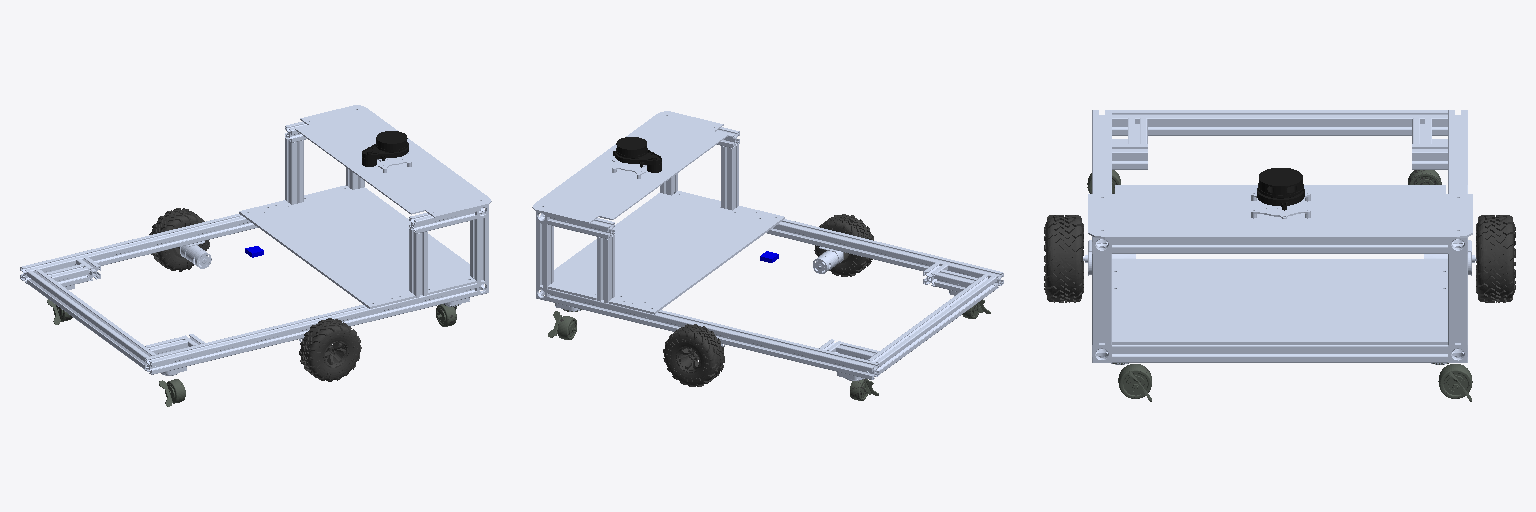
The robot description file, URDF, robot "Robot_Final":
<?xml version="1.0" encoding="utf-8"?>
<robot name="Robot_Final">

  <link name="CHASSIS">
    <inertial>
      <origin xyz="0.148972616629833 8.59131719513906E-05 0.037381334125696" rpy="0 0 0" />
      <mass value="5.23357376650206" />
      <inertia ixx="0.0475570522036204" ixy="1.29200142326392E-08" ixz="-4.95874451589697E-08"
               iyy="0.0782814898121404" iyz="-3.14872308343999E-10" izz="0.123239623540182" />
    </inertial>
    <visual>
      <origin xyz="0 0 0" rpy="0 0 0" />
      <geometry><mesh filename="package://real_description/meshes/CHASSIS.STL" /></geometry>
      <material name=""><color rgba="0.866666666666667 0.909803921568627 1 1" /></material>
    </visual>
    <collision>
      <origin xyz="0 0 0" rpy="0 0 0" />
      <geometry><mesh filename="package://real_description/meshes/CHASSIS.STL" /></geometry>
    </collision>
  </link>
  
 <!--FRONT LEFT CASTER-->
  <link name="FL_swivel">
    <inertial>
      <origin xyz="-0.0225271927865878 8.25455349966892E-06 -0.0150973351650807" rpy="0 0 0" />
      <mass value="0.080127289502846" />
      <inertia ixx="2.04328866782325E-05" ixy="1.02624903669851E-07" ixz="-1.06256948830954E-06"
               iyy="2.23548810848655E-05" iyz="2.04834207339686E-07" izz="1.69630328051252E-05" />
    </inertial>
    <visual>
      <origin xyz="0 0 0" rpy="0 0 0" />
      <geometry><mesh filename="package://real_description/meshes/FL_swivel.STL" /></geometry>
      <material name=""><color rgba="0.388235294117647 0.419607843137255 0.388235294117647 1" /></material>
    </visual>
    <collision>
      <origin xyz="0 0 0" rpy="0 0 0" />
      <geometry><mesh filename="package://real_description/meshes/FL_swivel.STL" /></geometry>
    </collision>
  </link>
  <joint name="fl_swivel" type="continuous">
    <origin xyz="0.34749994000006 0.238309957246437 -0.0550828883294601" rpy="1.5707963267949 -1.5707963267949 0" />
    <parent link="CHASSIS" />
    <child link="FL_swivel" />
    <axis xyz="-1 0 0" />
  </joint>

  <link name="FL_roll">
    <inertial>
      <origin xyz="0 1.38777878078145E-17 0" rpy="0 0 0" />
      <mass value="0.0472944068607781" />
      <inertia ixx="1.41883783502069E-05" ixy="4.44149907162492E-23" ixz="-6.88214269644119E-22"
               iyy="9.50735464480305E-06" iyz="1.86774448194512E-21" izz="9.50735464480305E-06" />
    </inertial>
    <visual>
      <origin xyz="0 0 0" rpy="0 0 0" />
      <geometry><mesh filename="package://real_description/meshes/FL_roll.STL" /></geometry>
      <material name=""><color rgba="0.294117647058824 0.294117647058824 0.294117647058824 1" /></material>
    </visual>
    <collision>
      <origin xyz="0 0 0" rpy="0 0 0" />
      <geometry><mesh filename="package://real_description/meshes/FL_roll.STL" /></geometry>
    </collision>
  </link>
  <joint name="fl_roll" type="continuous">
    <origin xyz="-0.0369999999999996 0.000959824507810431 -0.0229799638144681" rpy="0 0.0417436225359922 -1.57079632679489" />
    <parent link="FL_swivel" />
    <child link="FL_roll" />
    <axis xyz="1 0 0" />
  </joint>

<!--FRONT RIGHT CASTER-->
  <link name="FR_swivel">
    <inertial>
      <origin xyz="-0.0355271927865884 8.25455350048077E-06 -0.0150973351650687" rpy="0 0 0" />
      <mass value="0.0801272895028461" />
      <inertia ixx="2.04328866782326E-05" ixy="1.02624903669874E-07" ixz="-1.06256948830954E-06"
               iyy="2.23548810848655E-05" iyz="2.04834207339691E-07" izz="1.69630328051252E-05" />
    </inertial>
    <visual>
      <origin xyz="0 0 0" rpy="0 0 0" />
      <geometry><mesh filename="package://real_description/meshes/FR_swivel.STL" /></geometry>
      <material name=""><color rgba="0.388235294117647 0.419607843137255 0.388235294117647 1" /></material>
    </visual>
    <collision>
      <origin xyz="0 0 0" rpy="0 0 0" />
      <geometry><mesh filename="package://real_description/meshes/FR_swivel.STL" /></geometry>
    </collision>
  </link>
  <joint name="fr_swivel" type="continuous">
    <origin xyz="0.347499940000059 -0.238309957200129 -0.0420828883294584" rpy="1.5707963267949 -1.5707963267949 0" />
    <parent link="CHASSIS" />
    <child link="FR_swivel" />
    <axis xyz="1 0 0" />
  </joint>

  <link name="FR_roll">
    <inertial>
      <origin xyz="-1.38777878078145E-17 0 0" rpy="0 0 0" />
      <mass value="0.0472944068607781" />
      <inertia ixx="1.41883783502069E-05" ixy="-2.74902241208646E-22" ixz="-7.94093388050907E-22"
               iyy="9.50735464480305E-06" iyz="-1.06863102662723E-21" izz="9.50735464480305E-06" />
    </inertial>
    <visual>
      <origin xyz="0 0 0" rpy="0 0 0" />
      <geometry><mesh filename="package://real_description/meshes/FR_roll.STL" /></geometry>
      <material name=""><color rgba="0.294117647058824 0.294117647058824 0.294117647058824 1" /></material>
    </visual>
    <collision>
      <origin xyz="0 0 0" rpy="0 0 0" />
      <geometry><mesh filename="package://real_description/meshes/FR_roll.STL" /></geometry>
    </collision>
  </link>
  <joint name="fr_roll" type="continuous">
    <origin xyz="-0.0500000000000001 0.000959824507811236 -0.0229799638144561" rpy="3.14159265358979 -0.0417436225359922 1.5707963267949" />
    <parent link="FR_swivel" />
    <child link="FR_roll" />
    <axis xyz="1 0 0" />
  </joint>

<!--REAR LEFT CASTER-->
  <link name="RL_swivel">
    <inertial>
      <origin xyz="0.695215418771256 0.00502743200085908 0.0320864502764693" rpy="0 0 0" />
      <mass value="0.0606861535098016" />
      <inertia ixx="1.84920412193494E-05" ixy="-5.81928842027952E-08" ixz="-1.30866531976875E-08"
               iyy="1.41593687366366E-05" iyz="-1.06592653432018E-06" izz="1.38921500597451E-05" />
    </inertial>
    <visual>
      <origin xyz="0 0 0" rpy="0 0 0" />
      <geometry><mesh filename="package://real_description/meshes/RL_swivel.STL" /></geometry>
      <material name=""><color rgba="0.388235294117647 0.419607843137255 0.388235294117647 1" /></material>
    </visual>
    <collision>
      <origin xyz="0 0 0" rpy="0 0 0" />
      <geometry><mesh filename="package://real_description/meshes/RL_swivel.STL" /></geometry>
    </collision>
  </link>
  <joint name="rl_swivel" type="continuous">
    <origin xyz="0.348459764507871 0.215329993431968 -0.0920828883294597" rpy="1.5707963267949 0 -3.0998490310538" />
    <parent link="CHASSIS" />
    <child link="RL_swivel" />
    <axis xyz="0 1 0" />
  </joint>

  <link name="RL_roll">
    <inertial>
      <origin xyz="0 1.38777878078145E-17 0" rpy="0 0 0" />
      <mass value="0.0472944068607779" />
      <inertia ixx="1.41883783502068E-05" ixy="3.83019243189107E-22" ixz="-2.11758236813575E-22"
               iyy="9.50735464480297E-06" iyz="-2.03198382074269E-21" izz="9.50735464480297E-06" />
    </inertial>
    <visual>
      <origin xyz="0 0 0" rpy="0 0 0" />
      <geometry><mesh filename="package://real_description/meshes/RL_roll.STL" /></geometry>
      <material name=""><color rgba="0.294117647058824 0.294117647058824 0.294117647058824 1" /></material>
    </visual>
    <collision>
      <origin xyz="0 0 0" rpy="0 0 0" />
      <geometry><mesh filename="package://real_description/meshes/RL_roll.STL" /></geometry>
    </collision>
  </link>
  <joint name="rl_roll" type="continuous">
    <origin xyz="0.694394438846155 0 0.0290033877282606" rpy="3.14159265358979 0 3.14159265358979" />
    <parent link="RL_swivel" />
    <child link="RL_roll" />
    <axis xyz="1 0 0" />
  </joint>

<!--REAR RIGHT CASTER-->
  <link name="RR_swivel">
    <inertial>
      <origin xyz="-0.035527192786591 -8.25455350095261E-06 0.0150973351650685" rpy="0 0 0" />
      <mass value="0.080127289502846" />
      <inertia ixx="2.04328866782326E-05" ixy="-1.02624903669911E-07" ixz="1.06256948830962E-06"
               iyy="2.23548810848656E-05" iyz="2.04834207339678E-07" izz="1.69630328051252E-05" />
    </inertial>
    <visual>
      <origin xyz="0 0 0" rpy="0 0 0" />
      <geometry><mesh filename="package://real_description/meshes/RR_swivel.STL" /></geometry>
      <material name=""><color rgba="0.388235294117647 0.419607843137255 0.388235294117647 1" /></material>
    </visual>
    <collision>
      <origin xyz="0 0 0" rpy="0 0 0" />
      <geometry><mesh filename="package://real_description/meshes/RR_swivel.STL" /></geometry>
    </collision>
  </link>
  <joint name="rr_swivel" type="continuous">
    <origin xyz="-0.347499940000062 -0.238309957200129 -0.0420828883294612" rpy="1.5707963267949 -1.5707963267949 0" />
    <parent link="CHASSIS" />
    <child link="RR_swivel" />
    <axis xyz="1 0 0" />
  </joint>

  <link name="RR_roll">
    <inertial>
      <origin xyz="1.11022302462516E-16 0 -1.11022302462516E-16" rpy="0 0 0" />
      <mass value="0.047294406860778" />
      <inertia ixx="1.41883783502069E-05" ixy="2.51094514413731E-22" ixz="-1.58818677610181E-22"
               iyy="9.50735464480302E-06" iyz="1.99325585425421E-21" izz="9.50735464480302E-06" />
    </inertial>
    <visual>
      <origin xyz="0 0 0" rpy="0 0 0" />
      <geometry><mesh filename="package://real_description/meshes/RR_roll.STL" /></geometry>
      <material name=""><color rgba="0.294117647058824 0.294117647058824 0.294117647058824 1" /></material>
    </visual>
    <collision>
      <origin xyz="0 0 0" rpy="0 0 0" />
      <geometry><mesh filename="package://real_description/meshes/RR_roll.STL" /></geometry>
    </collision>
  </link>
  <joint name="rr_roll" type="continuous">
    <origin xyz="-0.0500000000000028 -0.000959824507811624 0.0229799638144559" rpy="3.14159265358978 -0.0417436225359922 1.57079632679489" />
    <parent link="RR_swivel" />
    <child link="RR_roll" />
    <axis xyz="-1 0 0" />
  </joint>

<!--LEFT DRIVE WHEEL-->
  <link name="LEFT_drive">
    <inertial>
      <origin xyz="-0.000435316178176041 1.43219237733194E-07 7.15469608836283E-07" rpy="0 0 0" />
      <mass value="0.172871365054941" />
      <inertia ixx="0.00041295850631102" ixy="-1.3967686359444E-10" ixz="-6.94216331541942E-10"
               iyy="0.000264146108822355" iyz="9.47688308859436E-10" izz="0.00026415067034445" />
    </inertial>
    <visual>
      <origin xyz="0 0 0" rpy="0 0 0" />
      <geometry><mesh filename="package://real_description/meshes/LEFT_drive.STL" /></geometry>
      <material name=""><color rgba="0.298039215686275 0.298039215686275 0.298039215686275 1" /></material>
    </visual>
    <collision>
      <origin xyz="0 0 0" rpy="0 0 0" />
      <geometry><mesh filename="package://real_description/meshes/LEFT_drive.STL" /></geometry>
    </collision>
  </link>
  <joint name="left_drive" type="continuous">
    <origin xyz="0 0.32099994000006 -0.0519998800001306" rpy="1.5707963267949 0 1.5707963267949" />
    <parent link="CHASSIS" />
    <child link="LEFT_drive" />
    <axis xyz="1 0 0" />
  </joint>

<!--RIGHT DRIVE WHEEL-->
  <link name="RIGHT_drive">
    <inertial>
      <origin xyz="-0.000435317384219203 3.49623845763425E-07 6.40158243581102E-07" rpy="0 0 0" />
      <mass value="0.172871342384214" />
      <inertia ixx="0.00041295850491582" ixy="-3.39976682291384E-10" ixz="-6.2085373672612E-10"
               iyy="0.000264147048135927" iyz="2.0749818440274E-09" izz="0.000264149727744325" />
    </inertial>
    <visual>
      <origin xyz="0 0 0" rpy="0 0 0" />
      <geometry><mesh filename="package://real_description/meshes/RIGHT_drive.STL" /></geometry>
      <material name=""><color rgba="0.298039215686275 0.298039215686275 0.298039215686275 1" /></material>
    </visual>
    <collision>
      <origin xyz="0 0 0" rpy="0 0 0" />
      <geometry><mesh filename="package://real_description/meshes/RIGHT_drive.STL" /></geometry>
    </collision>
  </link>
  <joint name="right_drive" type="continuous">
    <origin xyz="0 -0.320999940000059 -0.0519998800001246" rpy="1.5707963267949 0 -1.5707963267949" />
    <parent link="CHASSIS" />
    <child link="RIGHT_drive" />
    <axis xyz="1 0 0" />
  </joint>

<!--LIDAR-->
  <link name="LIDAR">
    <inertial>
      <origin xyz="0.0124301051678767 -0.00143154992810615 -0.000239815633560569" rpy="0 0 0" />
      <mass value="0.11668205406855" />
      <inertia ixx="4.69528158829323E-05" ixy="1.92108033402297E-05" ixz="-7.4737903940835E-07"
               iyy="0.000112425267410857" iyz="4.15170038674818E-07" izz="0.000100209188218838" />
    </inertial>
    <visual>
      <origin xyz="0 0 0" rpy="0 0 0" />
      <geometry><mesh filename="package://real_description/meshes/LIDAR.STL" /></geometry>
      <material name=""><color rgba="0.149019607843137 0.149019607843137 0.149019607843137 1" /></material>
    </visual>
    <collision>
      <origin xyz="0 0 0" rpy="0 0 0" />
      <geometry><mesh filename="package://real_description/meshes/LIDAR.STL" /></geometry>
    </collision>
  </link>
  <joint name="lidar" type="fixed">
    <origin xyz="0.337928211604104 0.0011642377654919 0.220978892743802" rpy="1.5707963267949 0 3.14159265358979" />
    <parent link="CHASSIS" />
    <child link="LIDAR" />
    <axis xyz="0 0 0" />
  </joint>

<!--IMU-->
  <link name="imu_link">
    <visual>
      <origin xyz="0 0 0" rpy="0 0 0"/>
      <geometry><box size="0.03 0.03 0.01"/></geometry>
      <material name="imu_blue"><color rgba="0.0 0.0 1.0 1"/></material>
    </visual>
    <collision>
      <origin xyz="0 0 0" rpy="0 0 0"/>
      <geometry><box size="0.03 0.03 0.01"/></geometry>
    </collision>
    <inertial>
      <mass value="0.01"/>
      <origin xyz="0 0 0" rpy="0 0 0"/>
      <inertia ixx="0.000001" ixy="0" ixz="0"
               iyy="0.000001" iyz="0" izz="0.000001"/>
    </inertial>
  </link>
  <joint name="imu_joint" type="fixed">
    <parent link="CHASSIS"/>
    <child link="imu_link"/>
    <origin xyz="0.0 0.0 0.05" rpy="0 0 0"/>
  </joint>

</robot>

--- What the picture shows (computed from the rendered views, not written in the file) ---
3 views of the same robot in one strip: view 1: azimuth 30°, elevation 25°; view 2: azimuth 150°, elevation 25°; view 3: azimuth 270°, elevation 25° (orthographic).
Model Robot_Final with 13 links and 12 joints (10 continuous, 2 fixed), rooted at CHASSIS, posed every joint at zero.
Links seen in each view (by area): view 1: CHASSIS, RIGHT_drive, LEFT_drive, LIDAR; view 2: CHASSIS, LEFT_drive, RIGHT_drive, LIDAR, FL_swivel; view 3: CHASSIS, LEFT_drive, RIGHT_drive, LIDAR, FL_swivel, FR_swivel.
Link boxes in pixels (bbox=[...]): CHASSIS: bbox=[20, 105, 491, 375]; RIGHT_drive: bbox=[299, 318, 361, 381]; LEFT_drive: bbox=[149, 208, 209, 271]; LIDAR: bbox=[362, 131, 408, 166]; CHASSIS: bbox=[532, 111, 1003, 380]; LEFT_drive: bbox=[663, 324, 724, 386]; RIGHT_drive: bbox=[814, 214, 873, 276]; LIDAR: bbox=[613, 137, 661, 172]; FL_swivel: bbox=[548, 309, 581, 339]; CHASSIS: bbox=[1083, 110, 1476, 364]; LEFT_drive: bbox=[1476, 215, 1515, 302]; RIGHT_drive: bbox=[1044, 215, 1083, 302]; LIDAR: bbox=[1257, 168, 1304, 210]; FL_swivel: bbox=[1433, 363, 1472, 401]; FR_swivel: bbox=[1113, 363, 1151, 401].
Size in the robot's own frame: 0.8419 by 0.7012 by 0.3572 metres.
Meshes: 12 distinct files referenced, 12 mesh visuals loaded (12 binary STL).
